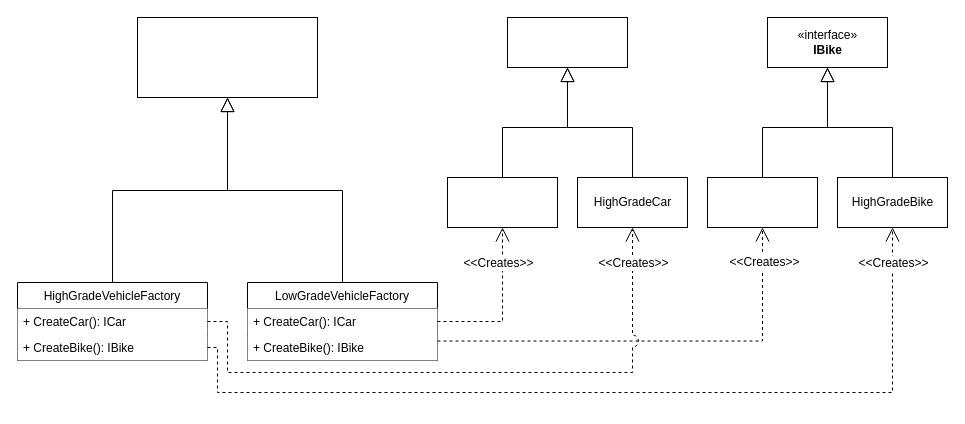
The diagram is 965 pixels wide and 424 high, and some of its shapes have lost their labels. Here are the shapes that lost their labels. From the top down, the centre of each, then its label:
the point at 227,57: <<Interface>> IVehicleFactory + CreateCar(): ICar + CreateBike(): IBike
the point at 567,42: «interface» ICar
the point at 502,202: LowGradeCar
the point at 762,202: LowGradeBike
